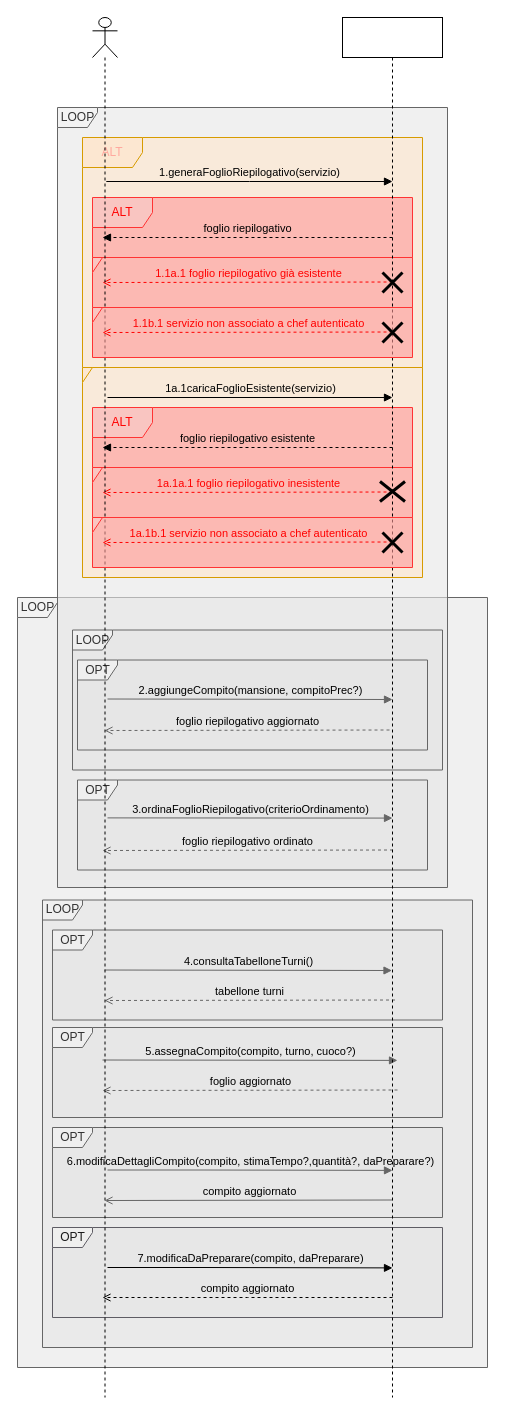
The diagram is 505 pixels wide and 1415 high, and some of its shapes have lost their labels. Each missing label, with the box of its shape:
Chef: (92, 16, 118, 1398)
Sistema: (342, 16, 442, 1398)
